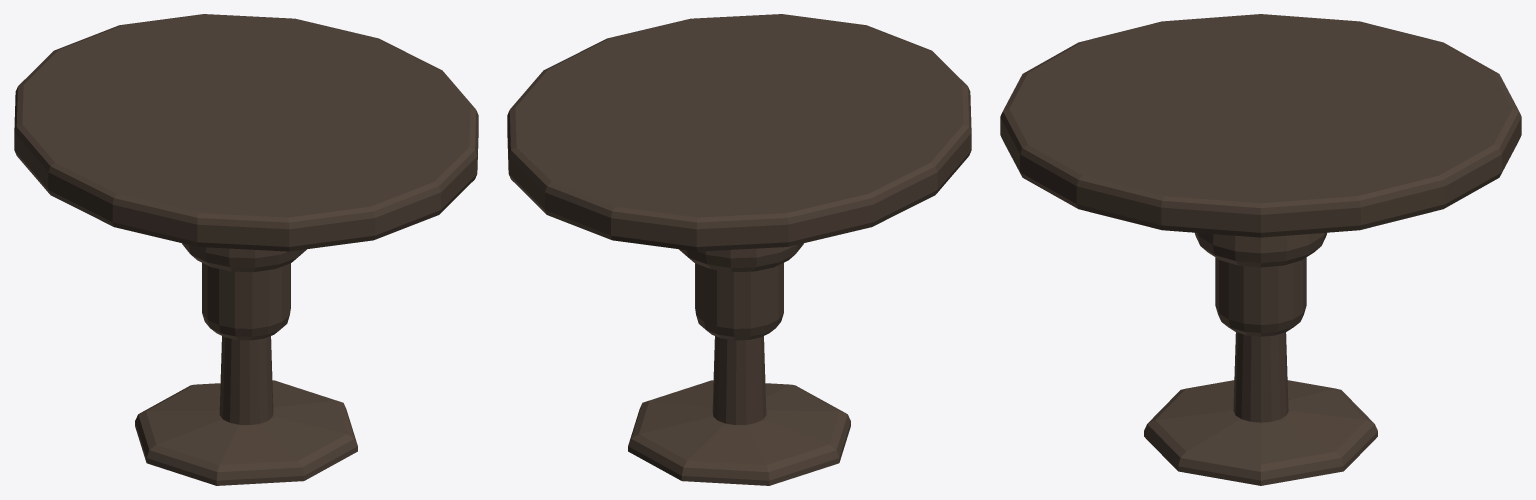
File: tinytable.fbx
3 renders of one model, left to right at view 1: azimuth 30°, elevation 25°; view 2: azimuth 150°, elevation 25°; view 3: azimuth 270°, elevation 25°, orthographic.
Parts seen in each view (by area): view 1: Cylinder; view 2: Cylinder; view 3: Cylinder.
Boxes of the visible parts, x1,y1,x2,y2 form: Cylinder: [14, 14, 478, 485]; Cylinder: [507, 14, 971, 485]; Cylinder: [1000, 14, 1521, 485].
Size of the model in its own units: 123 by 95.72 by 138.
